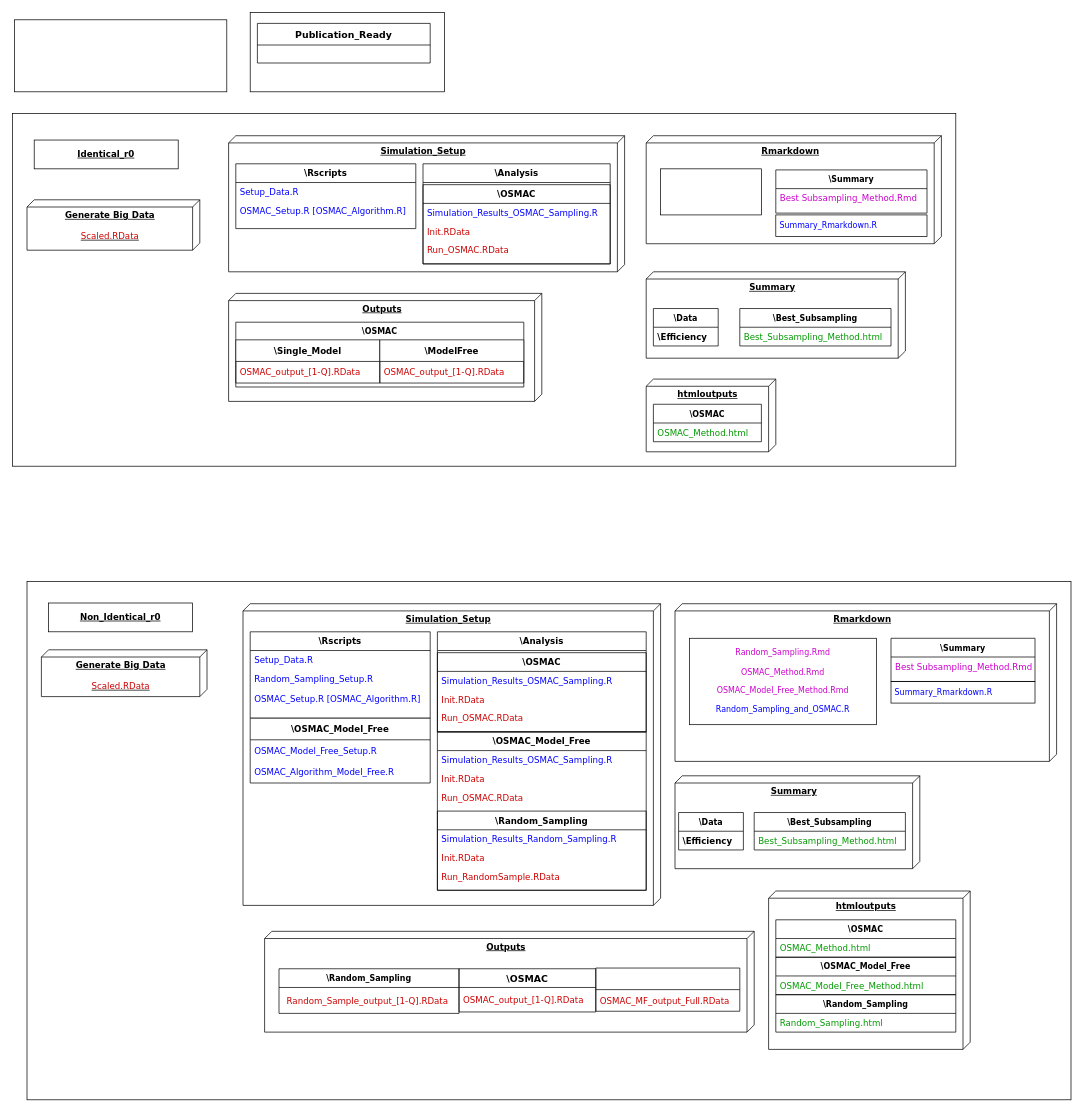
Image size: 1084x1112. Some labels were removed from this diagram. The box of each missing label's shape, as (x1, y1, x2, y2) in pixels:
\OSMAC_ModelFree: (595, 967, 740, 1011)
Articles.Rmd Load_Data.R Publication_Ready.Rmd Publication_Ready_Command.R: (14, 19, 227, 92)
OSMAC_Method.Rmd OSMAC_Command.R: (660, 168, 761, 215)
Publication_Ready.md: (249, 12, 445, 92)
